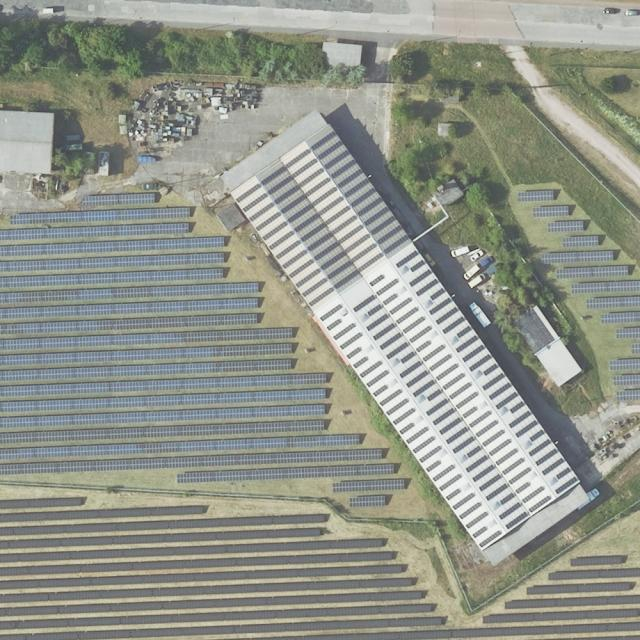PV: (0, 193, 405, 507), (1, 496, 640, 640), (318, 250, 578, 549), (236, 129, 409, 307), (517, 189, 640, 402)
